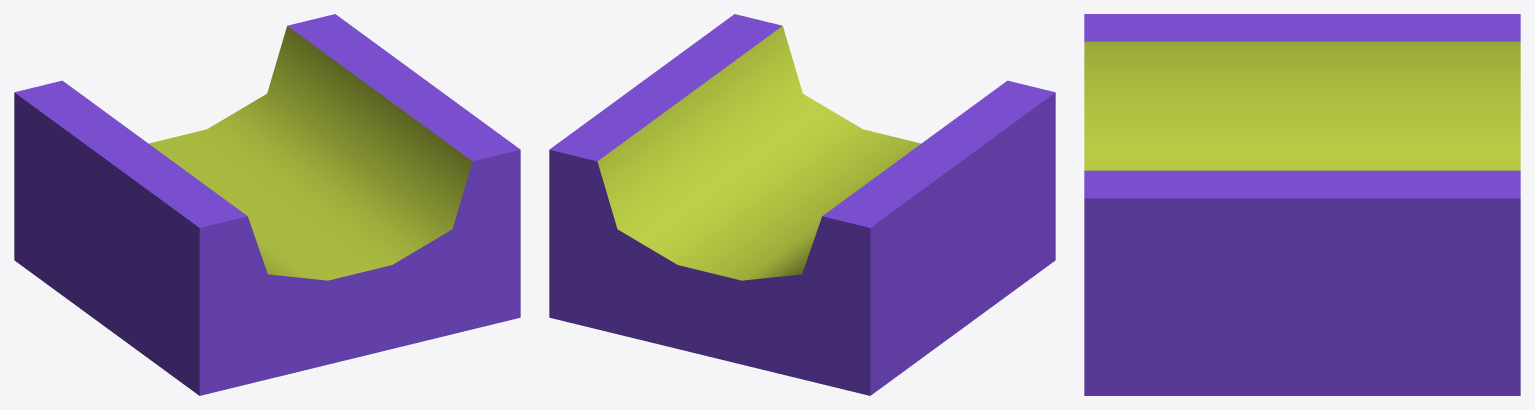
The model's file is straight-col.dae.
3 renders of one model, left to right at view 1: azimuth 30°, elevation 25°; view 2: azimuth 150°, elevation 25°; view 3: azimuth 270°, elevation 25°, orthographic. The views are drawn at different scales.
Parts seen in each view (by area): view 1: straight-col; view 2: straight-col; view 3: straight-col.
Part boxes in pixels (left/top/right/bottom): straight-col: left=14, top=14, right=520, bottom=395; straight-col: left=549, top=14, right=1055, bottom=395; straight-col: left=1084, top=14, right=1520, bottom=395.
Bounding box in the file's own units: 1 × 1 × 0.5.
